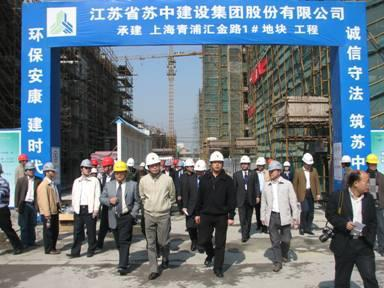head: (347, 170, 374, 197)
helmet: (208, 151, 227, 177), (364, 152, 383, 175), (113, 161, 131, 184), (299, 152, 318, 173), (145, 152, 163, 174), (269, 159, 285, 180), (44, 161, 60, 180), (194, 160, 208, 180), (26, 160, 40, 179), (255, 154, 268, 174), (239, 155, 253, 173), (101, 155, 114, 174), (340, 152, 353, 170), (82, 159, 94, 177), (185, 156, 197, 174), (15, 154, 29, 168)
